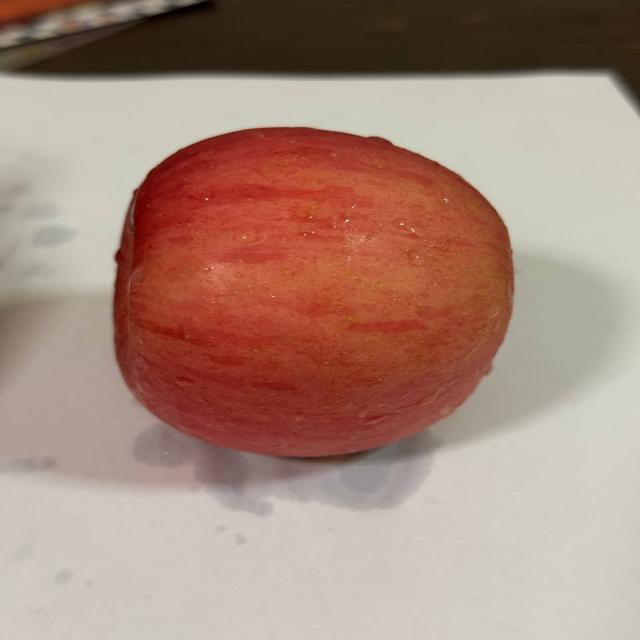apple: (100, 117, 531, 468)
